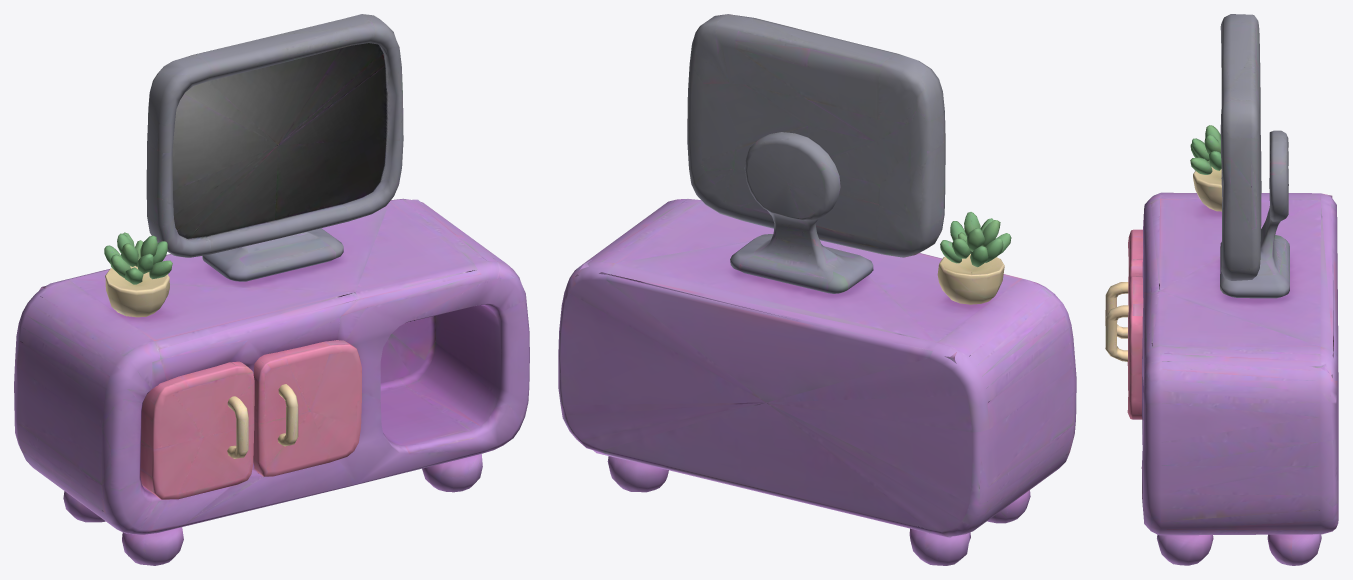
Rendered from tv-stand.glb.
3 views of the same model, side by side, from view 1: azimuth 30°, elevation 25°; view 2: azimuth 150°, elevation 25°; view 3: azimuth 270°, elevation 25° (orthographic). The views are drawn at different scales.
Visible parts, largest first — view 1: geometry_0; view 2: geometry_0; view 3: geometry_0.
Boxes of the visible parts, x1=… form: geometry_0: x1=14, y1=14, x2=529, y2=565; geometry_0: x1=558, y1=14, x2=1076, y2=565; geometry_0: x1=1105, y1=14, x2=1338, y2=565.
Size of the model in its own units: 0.9667 by 1 by 0.4864.
Materials: 1 (1 with a texture image).
